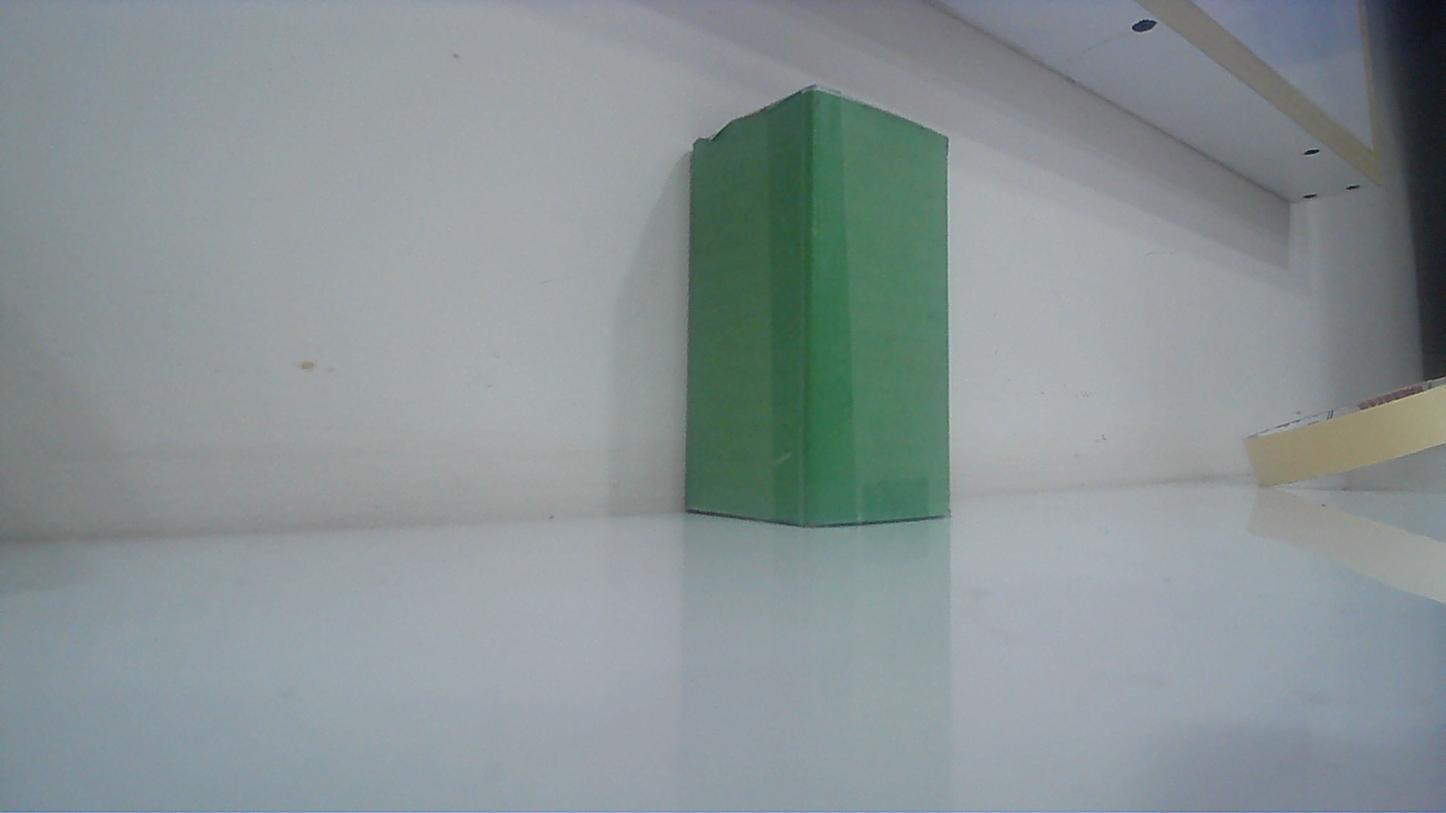green: (672, 75, 972, 545)
